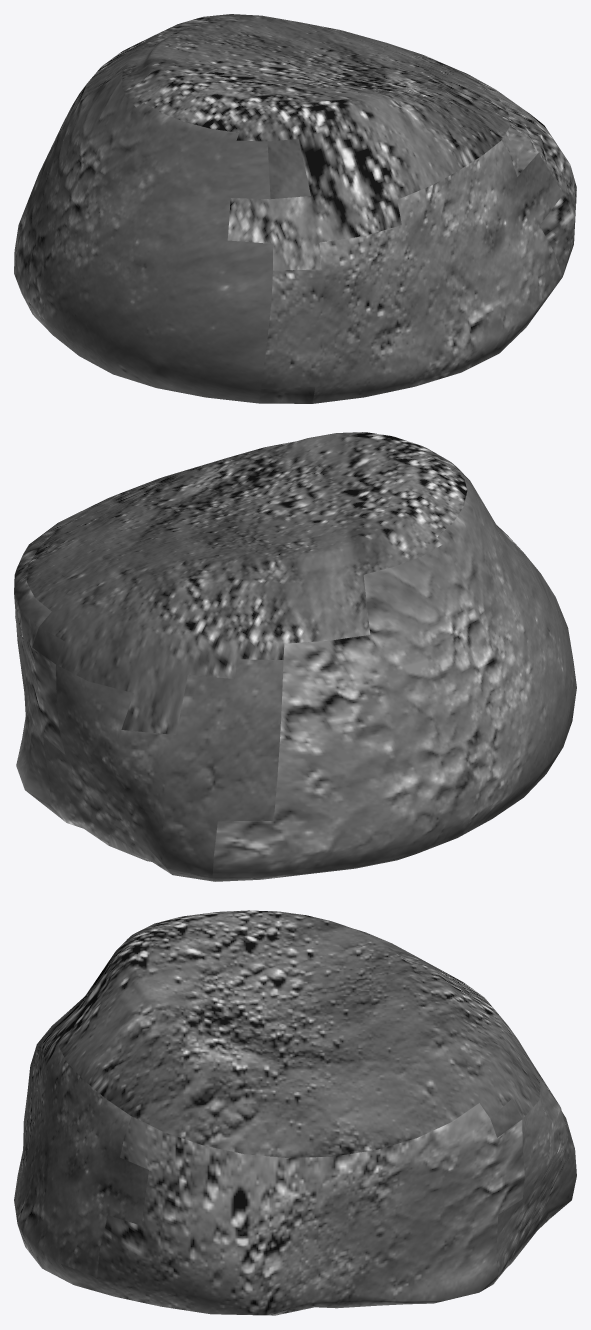
Rendered from Rock2.obj.
The picture shows the model from 3 angles, top to bottom: view 1: azimuth 30°, elevation 25°; view 2: azimuth 150°, elevation 25°; view 3: azimuth 270°, elevation 25°; orthographic projection. The views are drawn at different scales.
Parts seen in each view (by area): view 1: Rocks1; view 2: Rocks1; view 3: Rocks1.
Boxes of the visible parts, x1,y1,x2,y2 form: Rocks1: [14, 14, 576, 403]; Rocks1: [14, 432, 576, 881]; Rocks1: [14, 910, 576, 1315].
Size of the model in its own units: 0.4656 by 0.2503 by 0.4546.
Materials: 1 (1 with a texture image).
